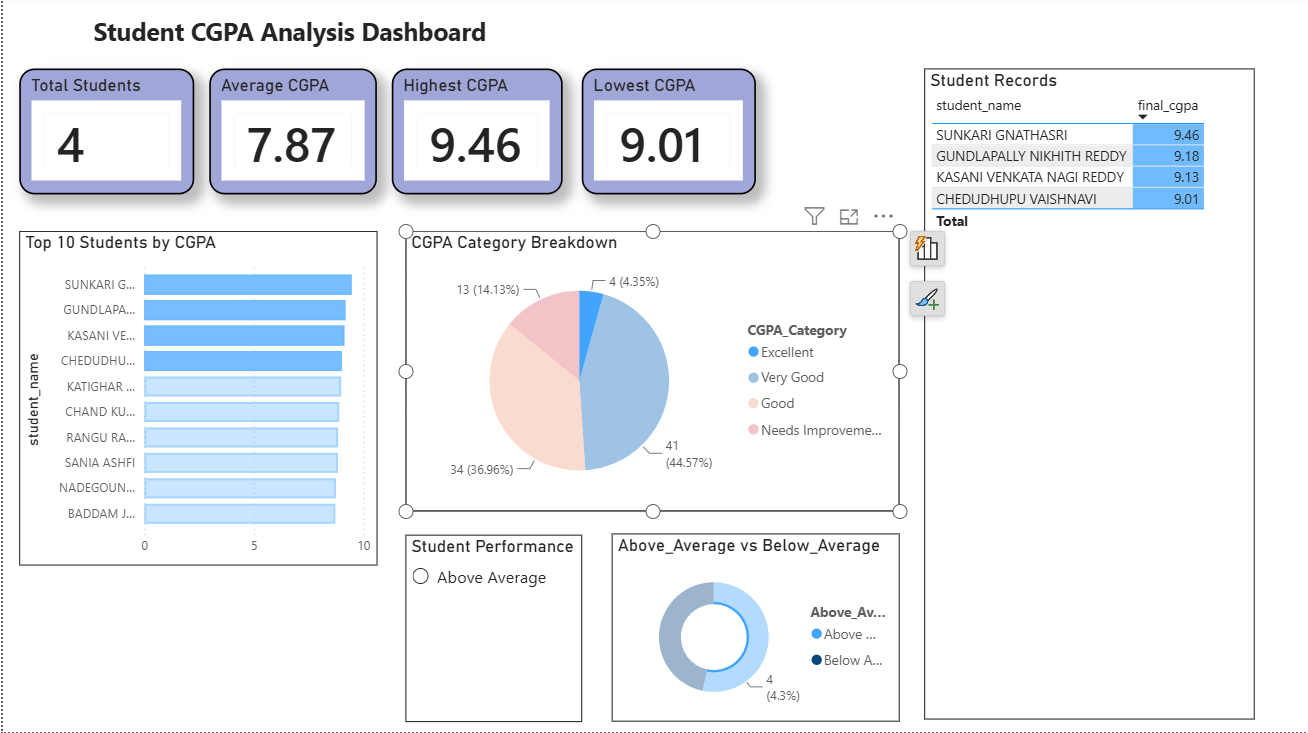

What the dashboard file says about the page in this screenshot:
{"tool":"powerbi","page":{"name":"Page 1","canvas":[1280,720],"ordinal":0},"visuals":[{"type":"tableEx","title":"Student Records","fields":{"Values":["AIML.Column3","AIML.final_cgpa"]},"box":[901.4,71.4,322.9,637.1],"z":0},{"type":"pieChart","title":"CGPA Category Breakdown","fields":{"Y":["AIML.total_students"],"Category":["AIML.CGPA_Category"]},"box":[394.3,230,482.9,274.3],"z":1000},{"type":"donutChart","title":"Above_Average vs Below_Average","fields":{"Y":["AIML.total_students"],"Category":["AIML.Above_Average"]},"box":[595.7,525.7,281.4,184.3],"z":2000},{"type":"listSlicer","title":"Student Performance","fields":{"Values":["AIML.Above_Average"]},"box":[394.3,527.1,172.9,182.9],"z":3000},{"type":"clusteredBarChart","title":"Top 10 Students by CGPA","fields":{"Category":["AIML.student_name"],"Y":["Sum(AIML.final_cgpa)"]},"box":[15.7,230,350,327.1],"z":4000},{"type":"cardVisual","title":"Total Students","fields":{"Data":["AIML.total_students"]},"box":[15.7,71.4,171.4,122.9],"z":5000},{"type":"cardVisual","title":"Average CGPA","fields":{"Data":["AIML.Average_CGPA"]},"box":[201.4,71.4,164.3,122.9],"z":6000},{"type":"cardVisual","title":"Highest CGPA","fields":{"Data":["AIML.highest_cgpa"]},"box":[380,71.4,167.1,122.9],"z":7000},{"type":"cardVisual","title":"Lowest CGPA","fields":{"Data":["AIML.lowest_cgpa"]},"box":[565.7,71.4,170,122.9],"z":8000},{"type":"textbox","box":[34.2,13.5,492.8,48.9],"z":9000}]}

Visuals, with their boxes in screenshot pixels (x1, y1, x2, y2), scaled from the page's 1280x720 canvas onto the 1308x733 screenshot:
"Student Records" tableEx: left=921, top=73, right=1251, bottom=721
"CGPA Category Breakdown" pieChart: left=403, top=234, right=896, bottom=513
"Above_Average vs Below_Average" donutChart: left=609, top=535, right=896, bottom=723
"Student Performance" listSlicer: left=403, top=537, right=580, bottom=723
"Top 10 Students by CGPA" clusteredBarChart: left=16, top=234, right=374, bottom=567
"Total Students" cardVisual: left=16, top=73, right=191, bottom=198
"Average CGPA" cardVisual: left=206, top=73, right=374, bottom=198
"Highest CGPA" cardVisual: left=388, top=73, right=559, bottom=198
"Lowest CGPA" cardVisual: left=578, top=73, right=752, bottom=198
textbox: left=35, top=14, right=539, bottom=64
